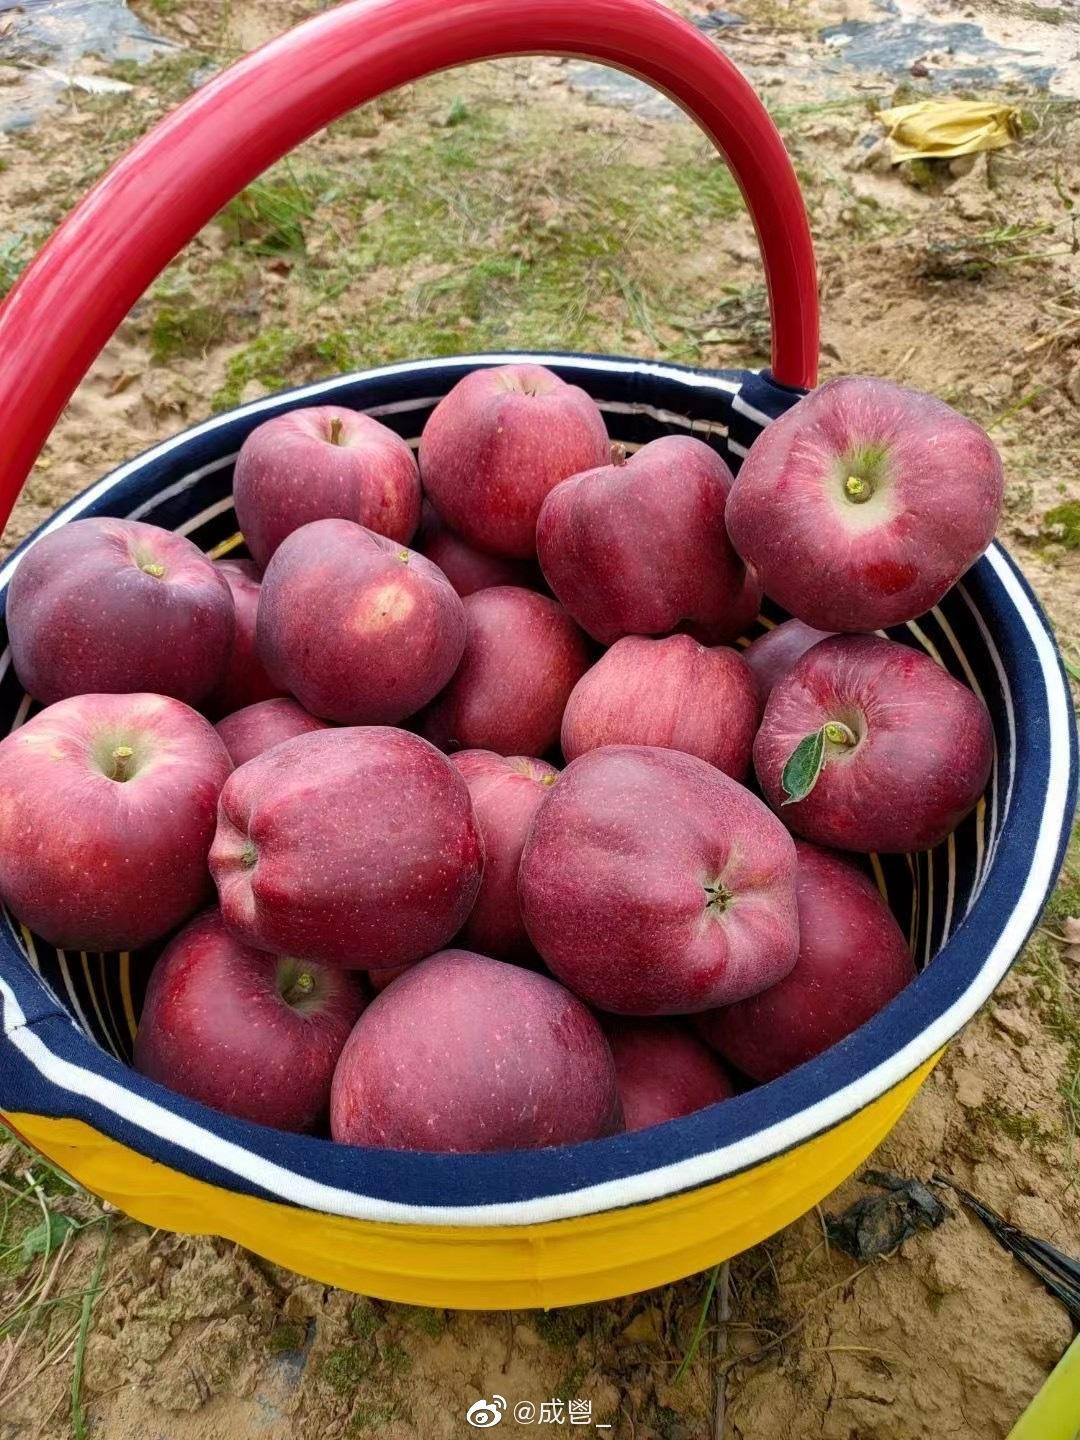apple: (722, 376, 1009, 644), (522, 745, 805, 1007), (214, 728, 486, 956), (329, 951, 616, 1157), (746, 628, 998, 859), (1, 701, 231, 951), (138, 920, 368, 1145), (530, 426, 751, 655), (255, 520, 463, 725), (12, 516, 235, 696), (427, 361, 609, 554), (227, 401, 420, 570), (557, 635, 760, 779)
